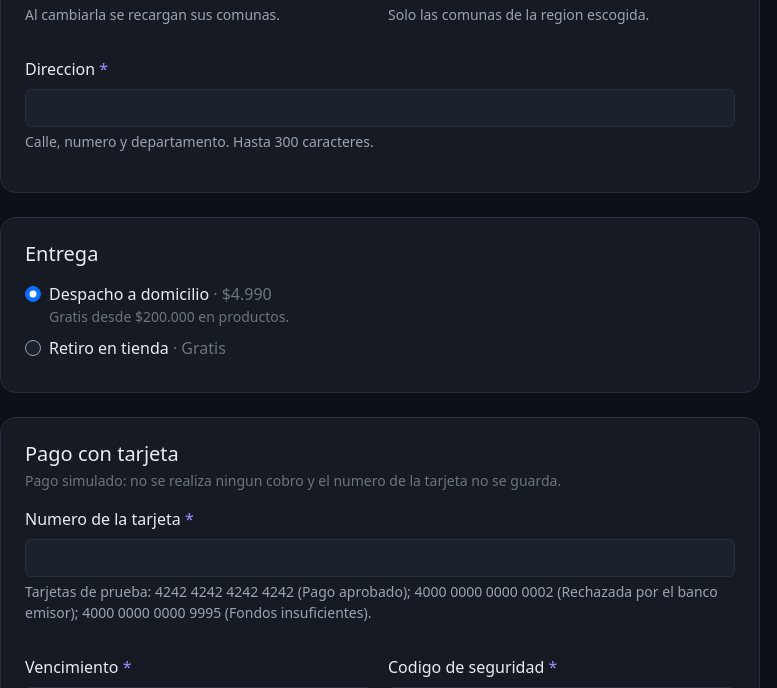
Test: Checkout › invitado › elegir retiro en tienda quita el envio del total
(page scrolled)
Click the radio button labelled "Retiro en tienda · Gratis": coordinates (33, 348) [25,340,41,356]
(page scrolled)
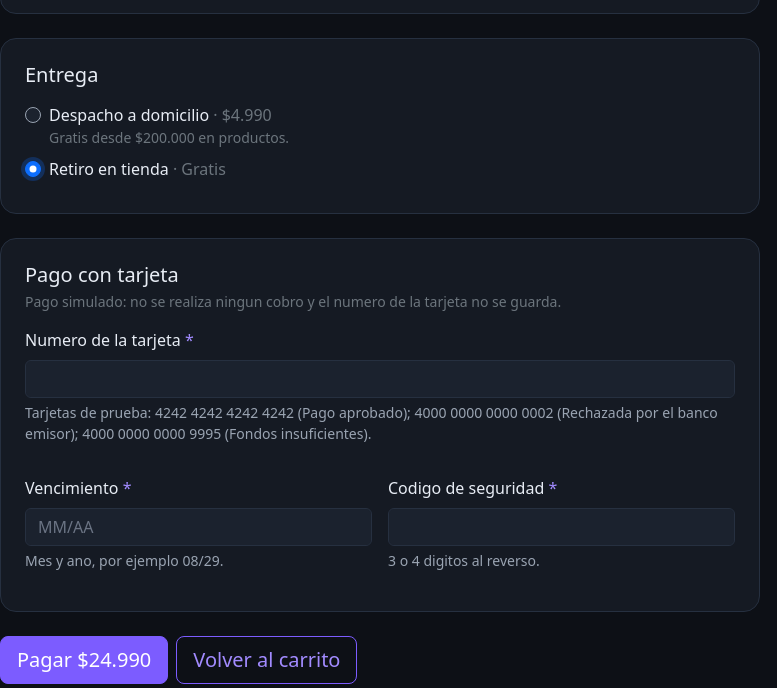
Expected: the button "Pagar $24.990" is shown, [0,636,168,684]
